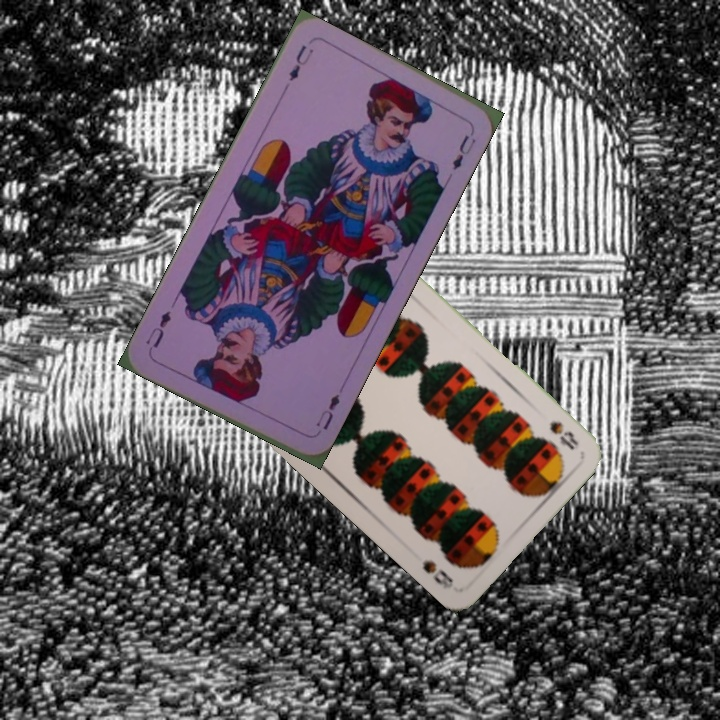EU: (284, 41, 317, 84), (312, 389, 343, 433)
S8: (545, 417, 582, 453)
